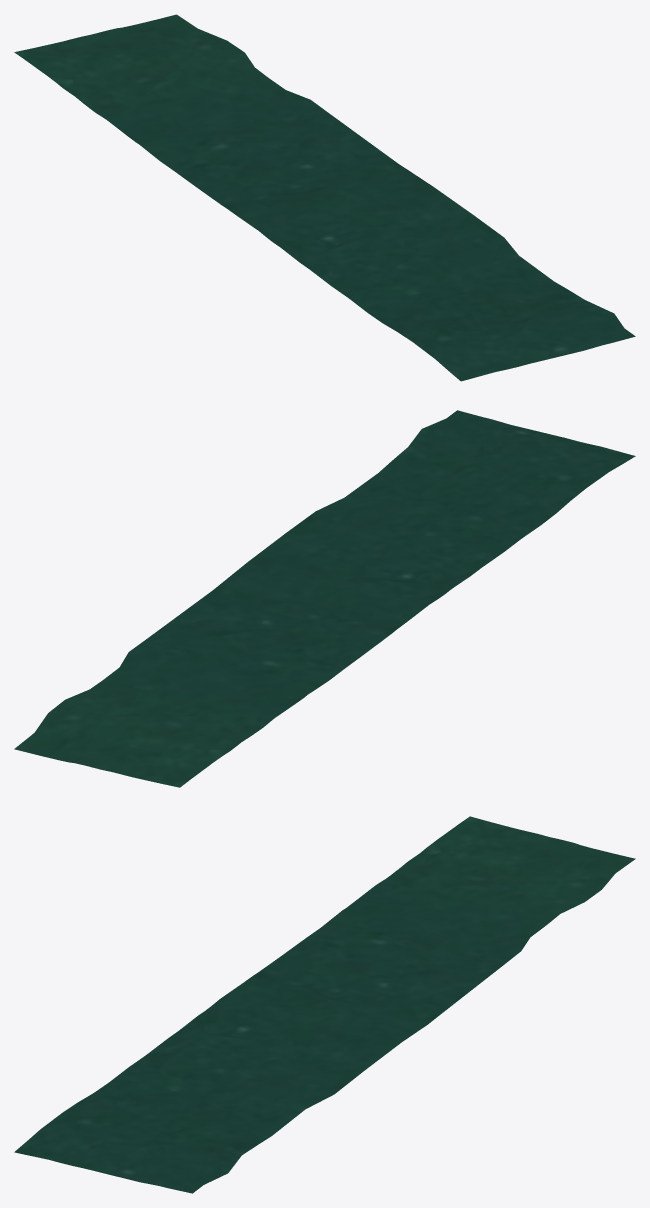
3 views of the same model, one above another, from view 1: azimuth 30°, elevation 25°; view 2: azimuth 150°, elevation 25°; view 3: azimuth 330°, elevation 25° (orthographic). The views are drawn at different scales.
Bounding box in the file's own units: 24.52 × 0.642 × 104.
Materials: 1 (1 with a texture image).
